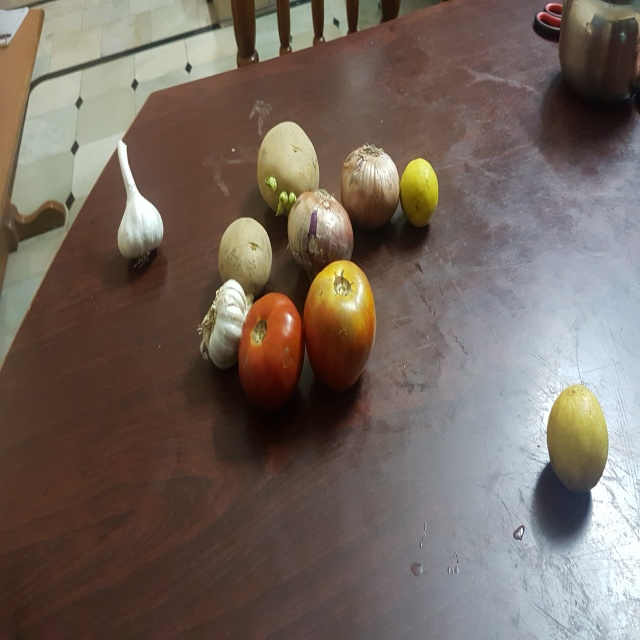garlic: (113, 139, 169, 264), (199, 275, 265, 372)
lemon: (542, 375, 616, 498), (400, 152, 445, 238)
onion: (333, 142, 400, 242), (285, 193, 356, 269)
potato: (255, 121, 330, 213), (216, 215, 273, 300)
tomato: (303, 260, 376, 396), (238, 292, 305, 410)
